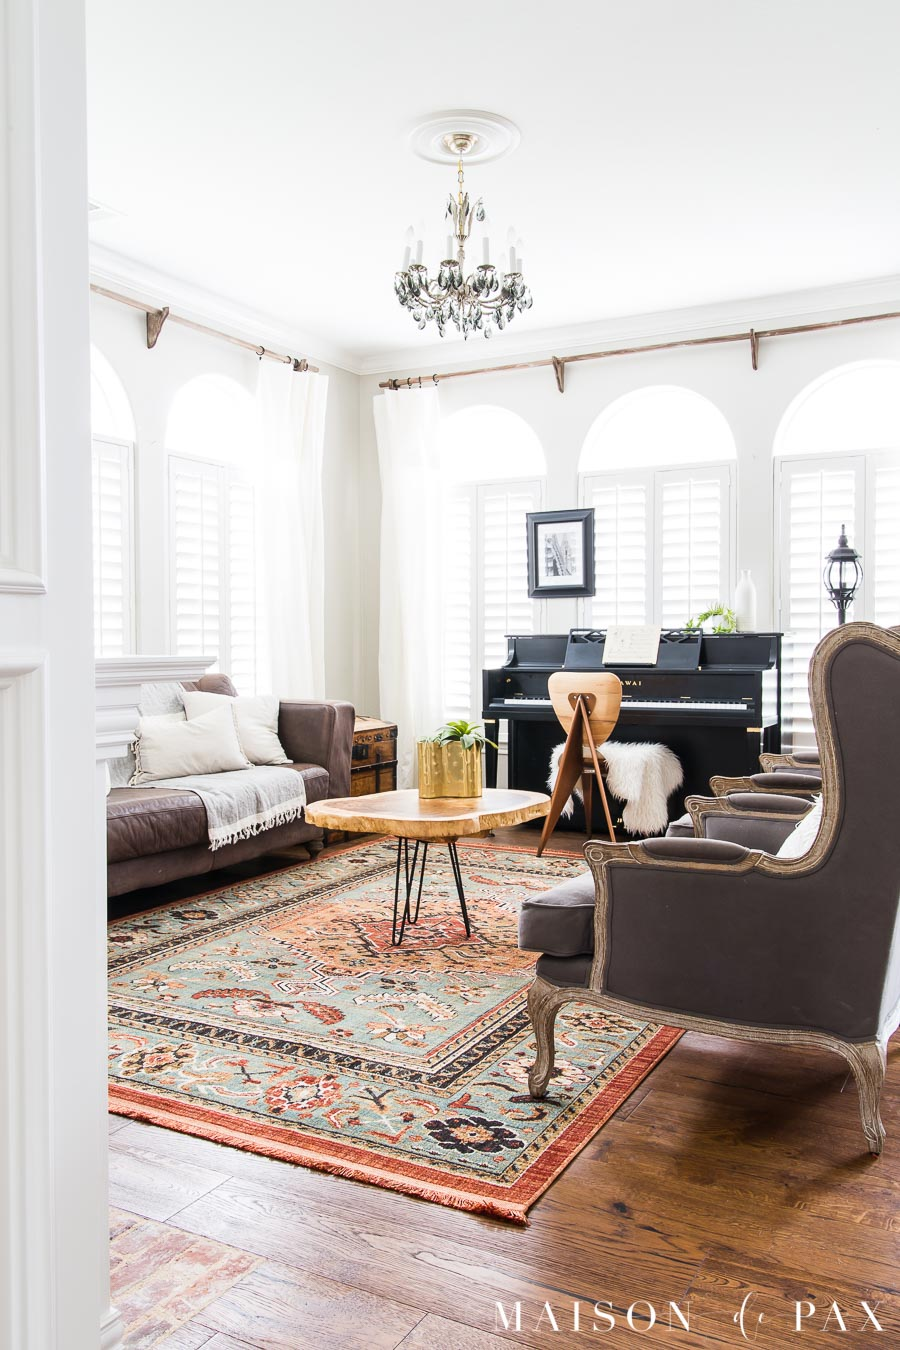hitam: (478, 629, 767, 757)
putih: (137, 687, 282, 771)
